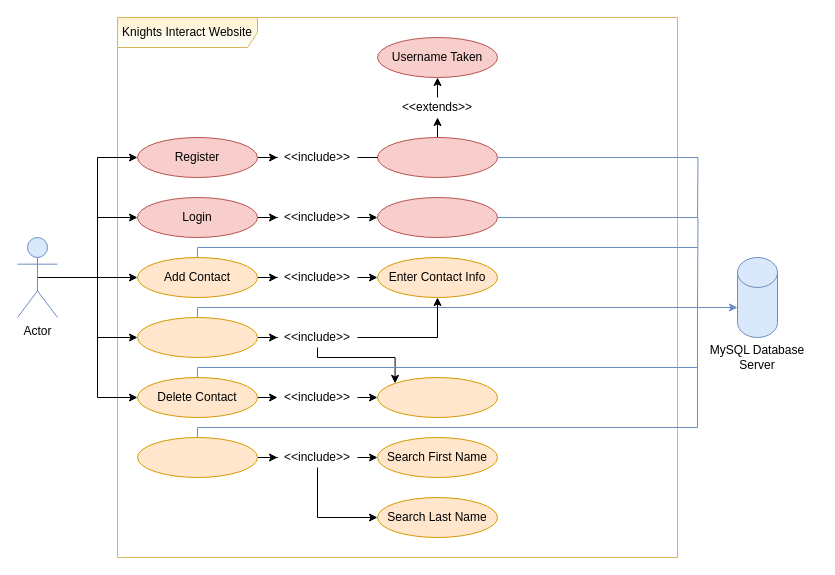
Some shapes in this 835 by 575 pixel diagram are drawn without their labels. Here are the shapes that lost their labels. From the top down, the centre of each, then its label:
pixel 437 157: Enter User Info
pixel 437 217: Enter Password
pixel 197 337: Edit Contact
pixel 437 397: Select Contact
pixel 197 457: Search Contact
